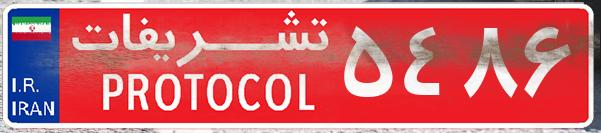4: (400, 20, 460, 115)
5: (340, 20, 400, 115)
6: (520, 20, 580, 115)
8: (460, 20, 520, 115)
تشریفات: (60, 8, 340, 125)
